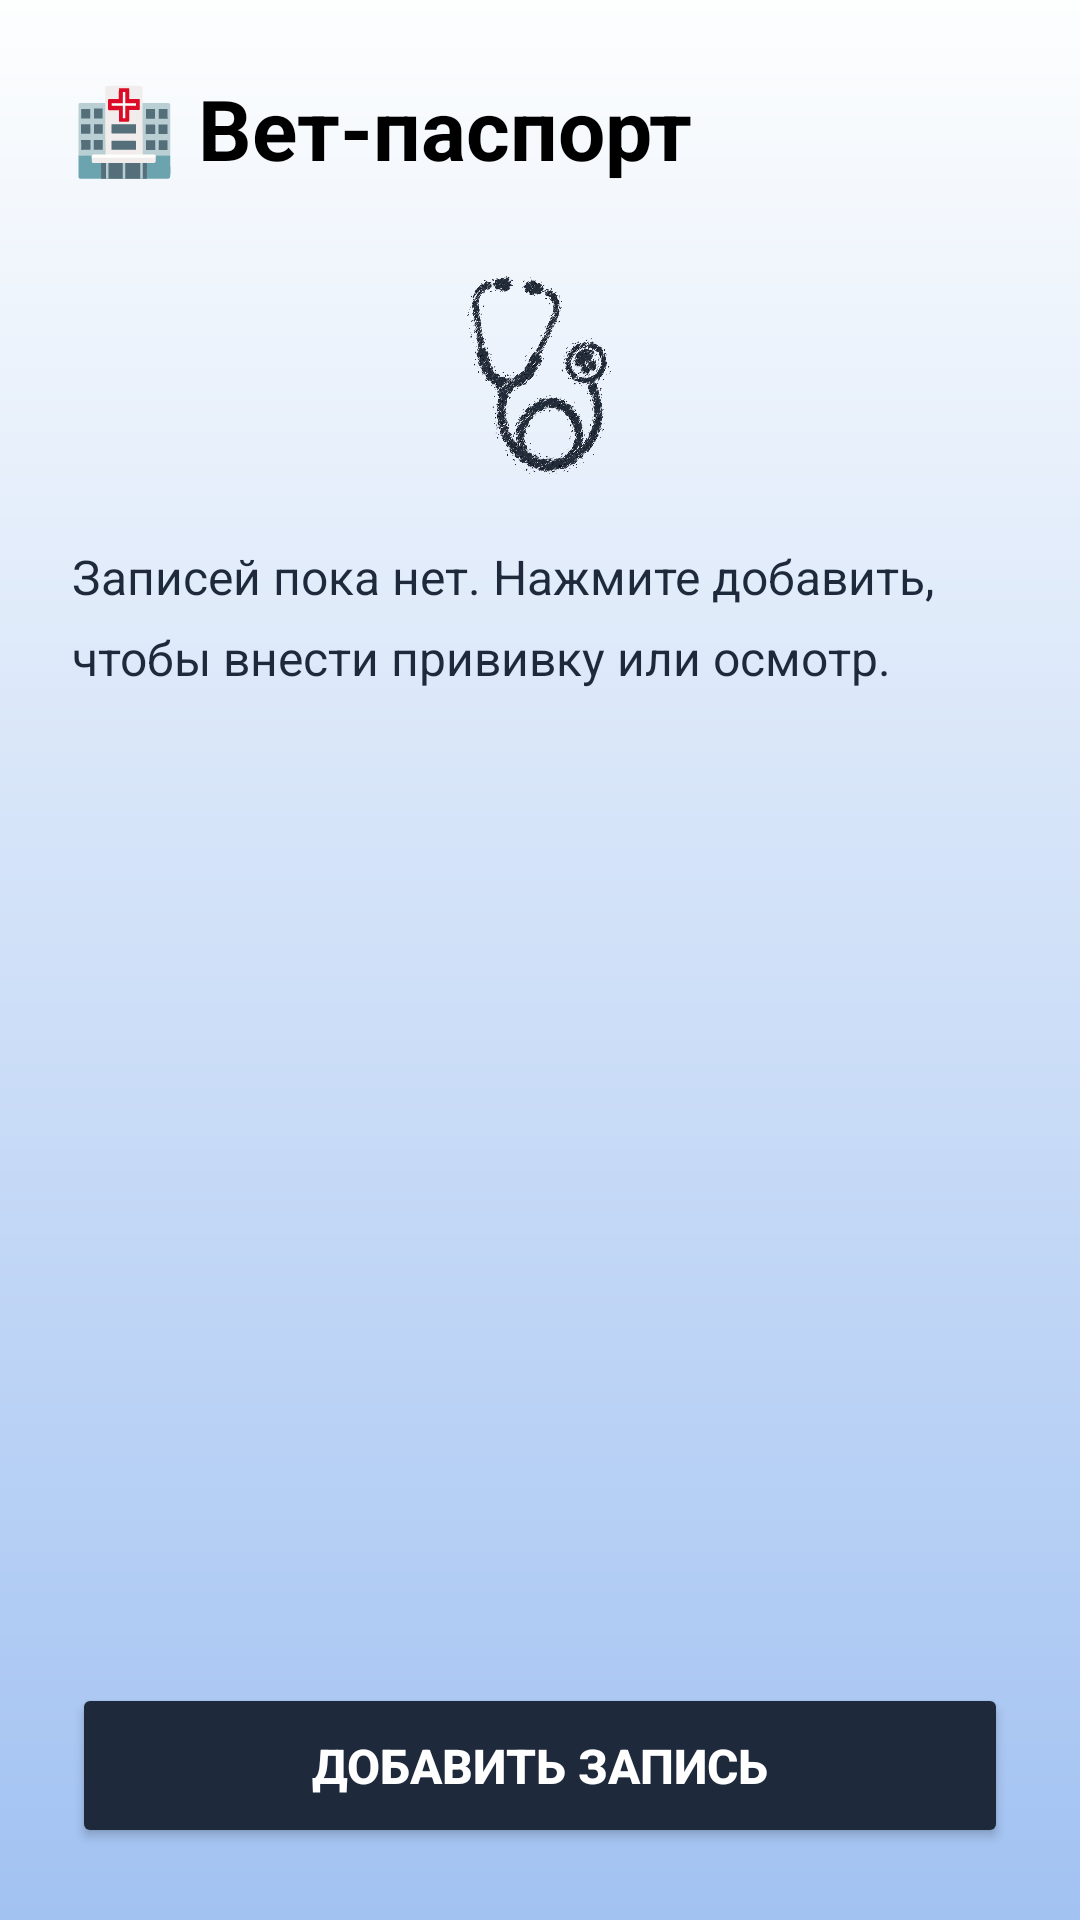

Where to tap for icons on this 1080px×1920px app screen, as (x=x, y=y):
vrach: (x=539, y=375)
